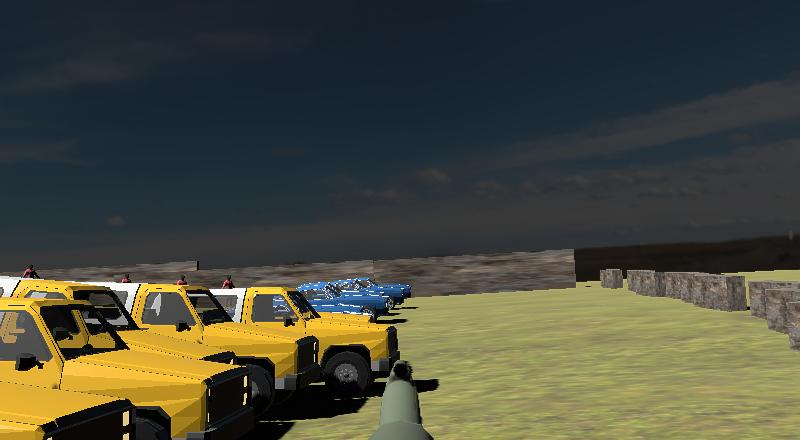car: (1, 280, 276, 440), (199, 282, 402, 410), (286, 272, 415, 323)
